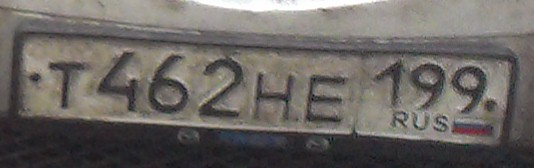character: (144, 46, 195, 116), (96, 46, 143, 114), (199, 54, 246, 121), (301, 71, 354, 127), (42, 57, 93, 113), (252, 67, 296, 123), (409, 53, 446, 117), (451, 57, 486, 117), (369, 53, 404, 110)
